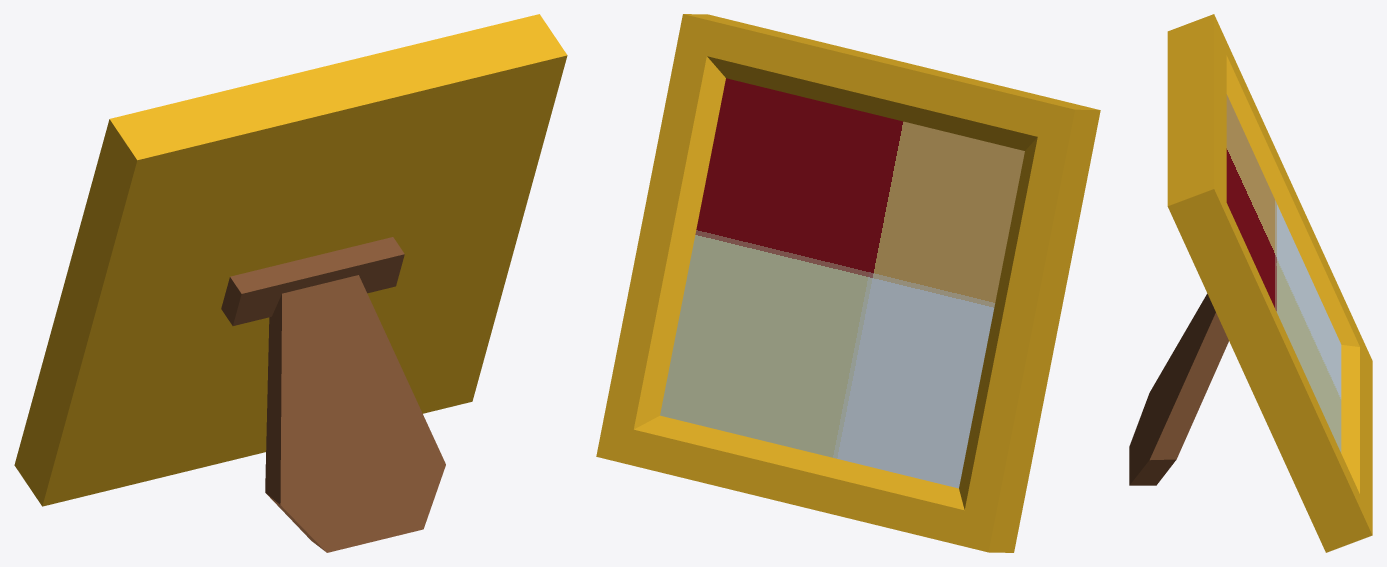
The model's file is photo.glb.
3 renders of one model, left to right at view 1: azimuth 30°, elevation 25°; view 2: azimuth 150°, elevation 25°; view 3: azimuth 270°, elevation 25°, orthographic. The views are drawn at different scales.
Parts seen in each view (by area): view 1: mesh_photomark_01; view 2: mesh_photomark_01; view 3: mesh_photomark_01.
Part boxes in pixels (left/top/right/bottom): mesh_photomark_01: left=14, top=14, right=567, bottom=552; mesh_photomark_01: left=596, top=14, right=1100, bottom=552; mesh_photomark_01: left=1129, top=14, right=1372, bottom=552.
Bounding box in the file's own units: 0.229 × 0.2226 × 0.1345.
1 material, 1 textured.
